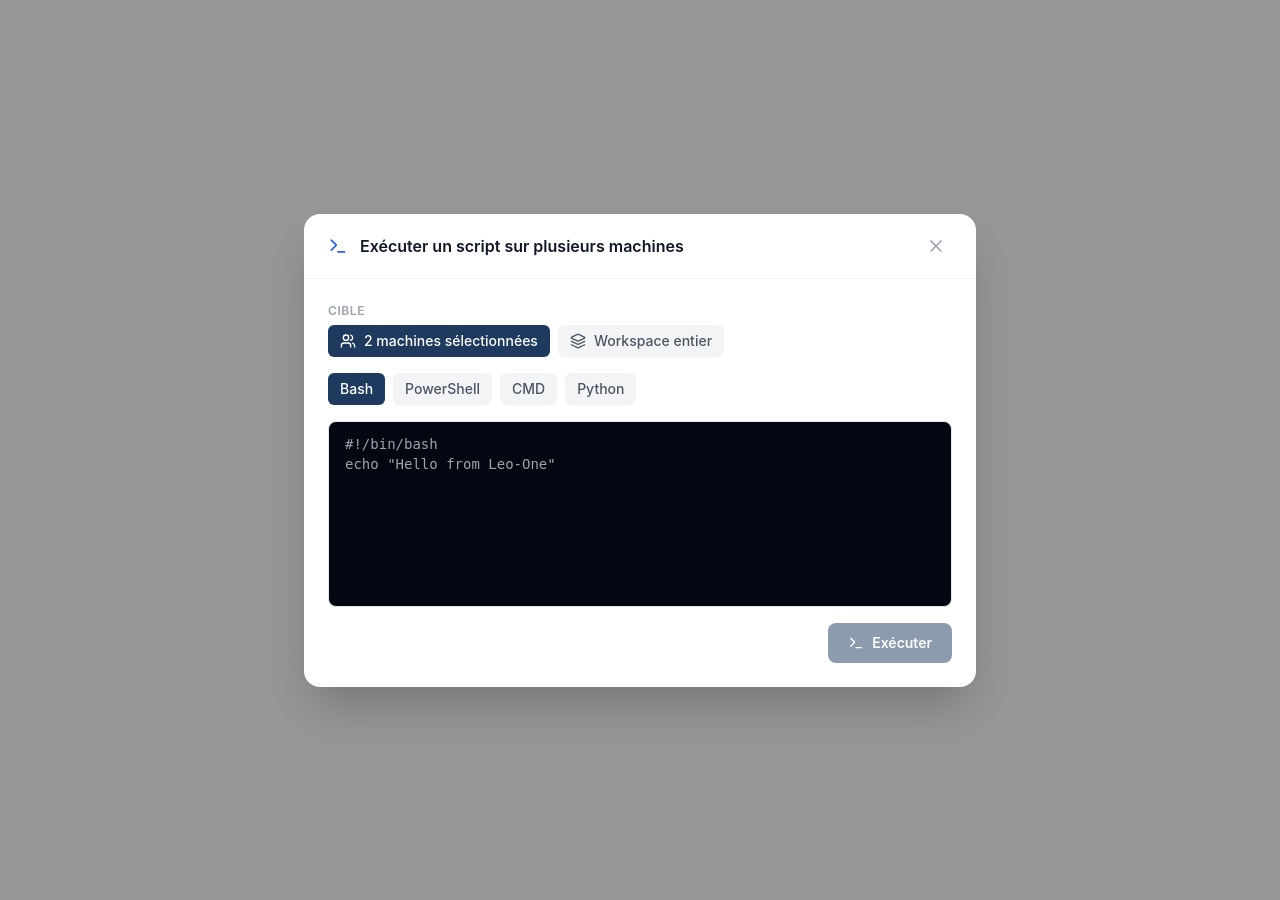
BulkCommandModal — machines présélectionnées › envoie agent_ids + interpreter + script par défaut (bash)
Type "echo hi" into the text box with placeholder "#!/bin/bash echo \"Hello from Leo-One\"" at (640, 514), box [328,420,952,606]
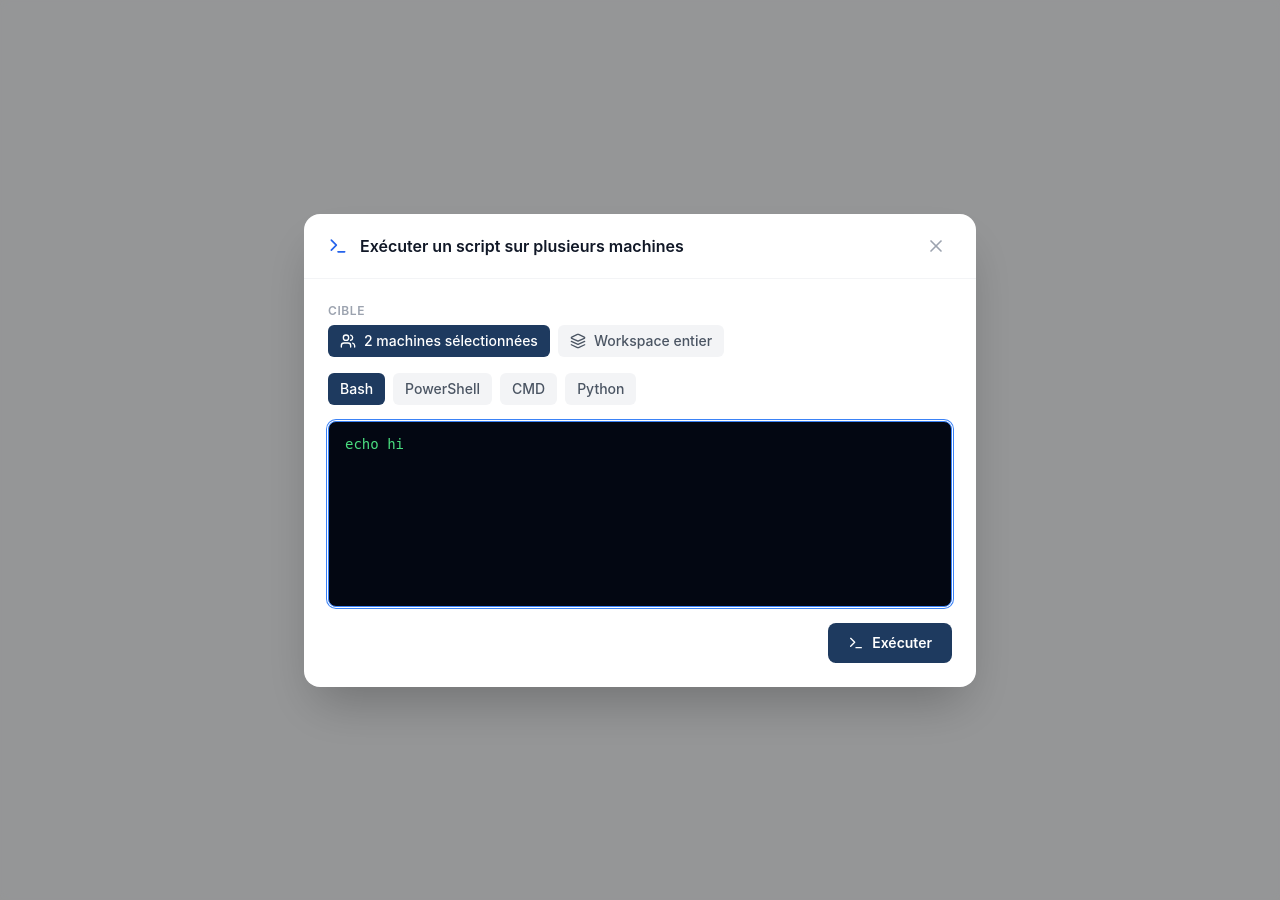
Click the button "Exécuter" at (890, 642), box [828,622,952,662]
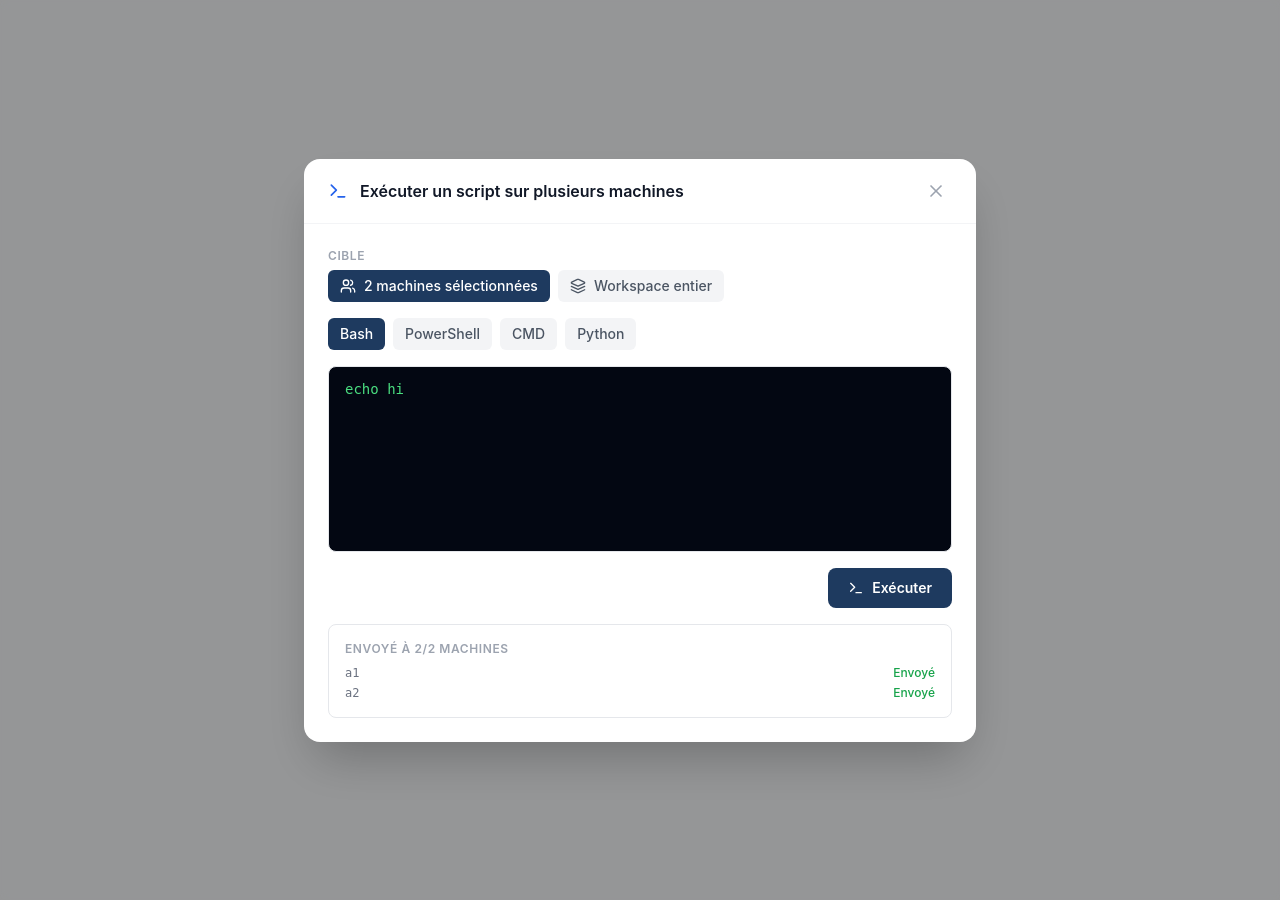
Check: the text "Envoyé à 2/2 machines" is shown, box [345,640,509,656]
